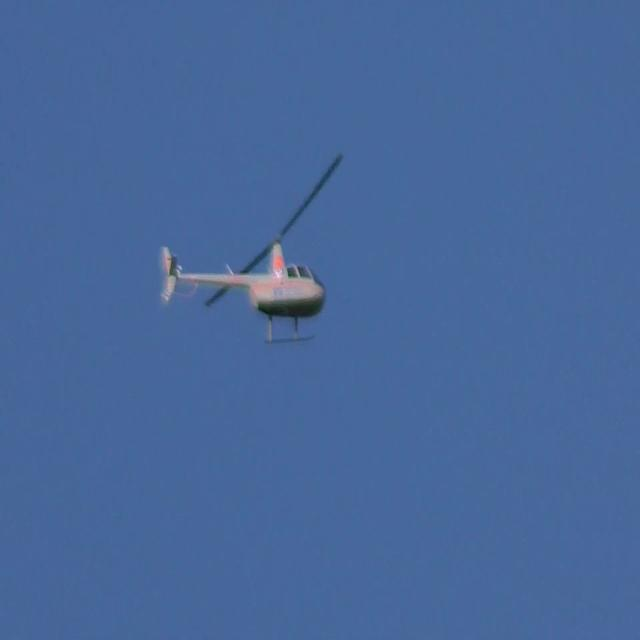CIV_HELO: (159, 233, 327, 349)
